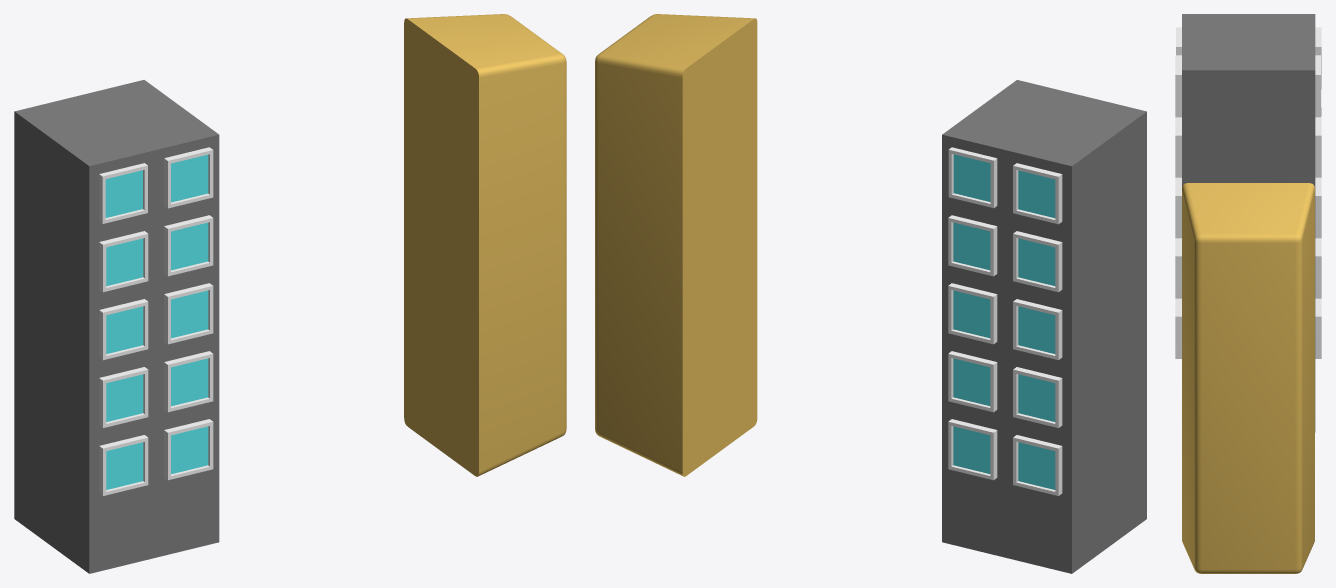
File: handleshing.fbx
The picture shows the model from 3 angles, left to right: view 1: azimuth 30°, elevation 25°; view 2: azimuth 150°, elevation 25°; view 3: azimuth 270°, elevation 25°; orthographic projection. The views are drawn at different scales.
Parts seen in each view (by area): view 1: right, Box002, Box004; view 2: right, Box002, Box004; view 3: right, Box002, Box004.
Boxes of the visible parts, x1,y1,x2,y2 form: right: (404,14,566,476); Box002: (14,80,219,573); Box004: (99,147,213,495); right: (595,14,757,476); Box002: (942,80,1146,573); Box004: (948,147,1062,495); right: (1182,183,1314,573); Box002: (1182,14,1315,432); Box004: (1175,27,1321,358).
Bounding box in the file's own units: 75 × 60 × 21.98.
